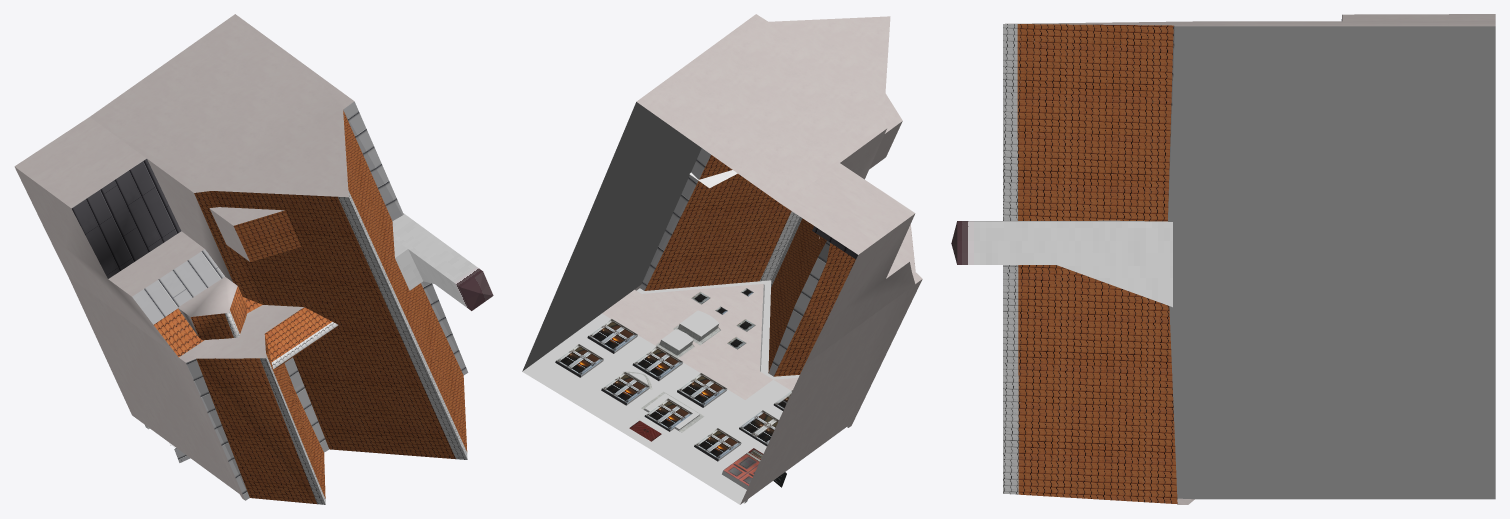
The model's file is Dunkri_6.obj.
The picture shows the model from 3 angles, left to right: view 1: azimuth 30°, elevation 25°; view 2: azimuth 150°, elevation 25°; view 3: azimuth 270°, elevation 25°; orthographic projection. The views are drawn at different scales.
Visible parts, largest first — view 1: Dunkri_6; view 2: Dunkri_6; view 3: Dunkri_6.
Part boxes in pixels (bbox=[...]): Dunkri_6: bbox=[14, 14, 493, 504]; Dunkri_6: bbox=[522, 14, 922, 504]; Dunkri_6: bbox=[951, 14, 1495, 504].
Bounding box in the file's own units: 17.33 × 19.34 × 18.1.
